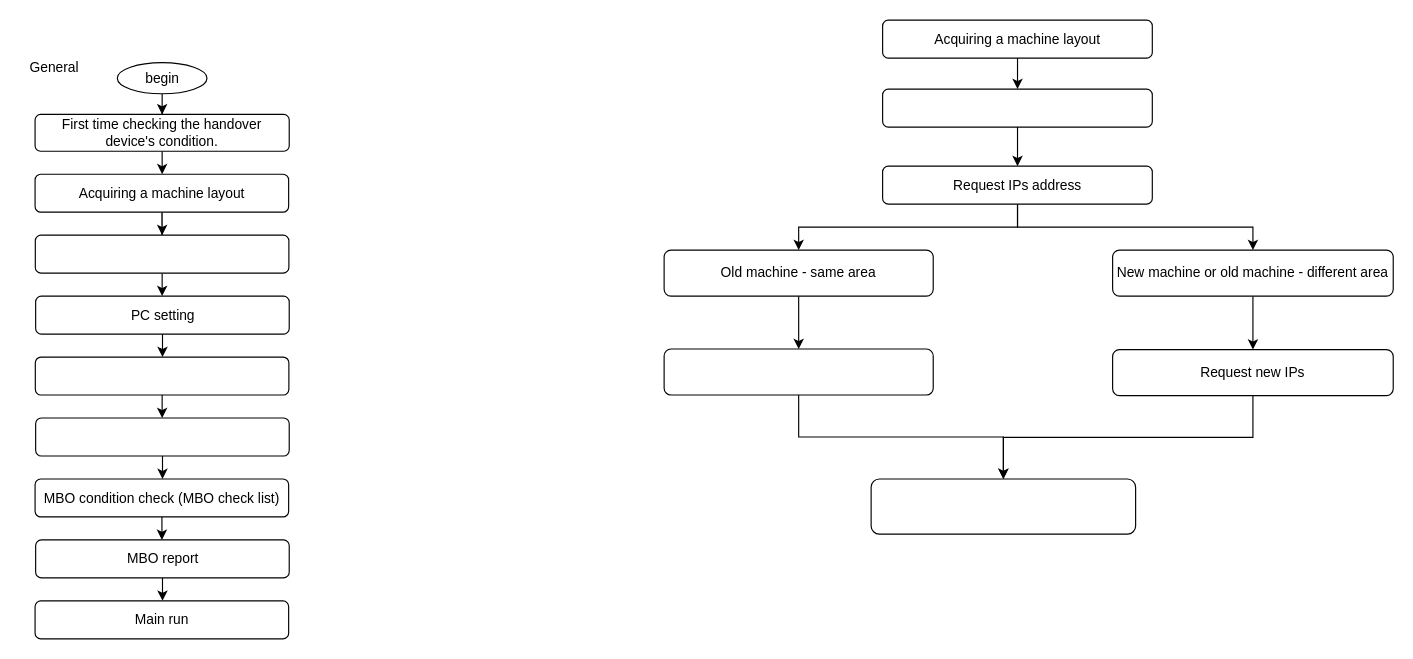
Some shapes in this 1413 by 659 pixel diagram are drawn without their labels. Each missing label, with the centre of its shape:
Apply new layout and all machine's general conditional: point 161,253
Confirm new layout: point 1016,107
Contact PE for hooking up compressed air, power line: point 1003,506
Hook-up machine part: point 161,375
Machine setting: point 161,436
Use the same IPs: point 798,371
